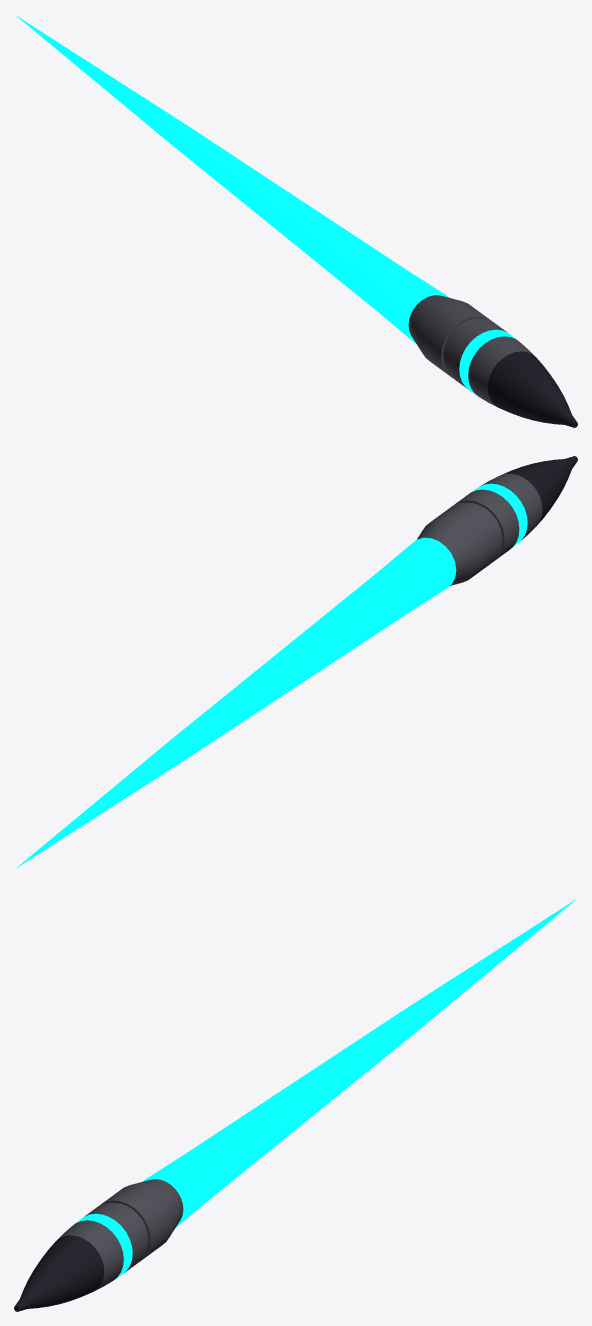
File: GravitySniper_Bolt_ap.fbx
The picture shows the model from 3 angles, top to bottom: view 1: azimuth 30°, elevation 25°; view 2: azimuth 150°, elevation 25°; view 3: azimuth 330°, elevation 25°; orthographic projection.
Visible parts, largest first — view 1: Bolt_Estela_Halo_Perforante, Bolt_Bala_Perforante; view 2: Bolt_Estela_Halo_Perforante, Bolt_Bala_Perforante; view 3: Bolt_Estela_Halo_Perforante, Bolt_Bala_Perforante.
Boxes of the visible parts, x1,y1,x2,y2 form: Bolt_Estela_Halo_Perforante: (15,15,449,343); Bolt_Bala_Perforante: (408,295,577,427); Bolt_Estela_Halo_Perforante: (15,537,456,868); Bolt_Bala_Perforante: (417,456,577,585); Bolt_Estela_Halo_Perforante: (142,899,576,1227); Bolt_Bala_Perforante: (14,1179,183,1311).
Size of the model in its own units: 2.9 by 2.9 by 46.79.
